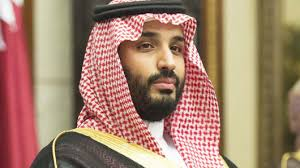middle_eastern_male: (131, 23, 189, 117)
